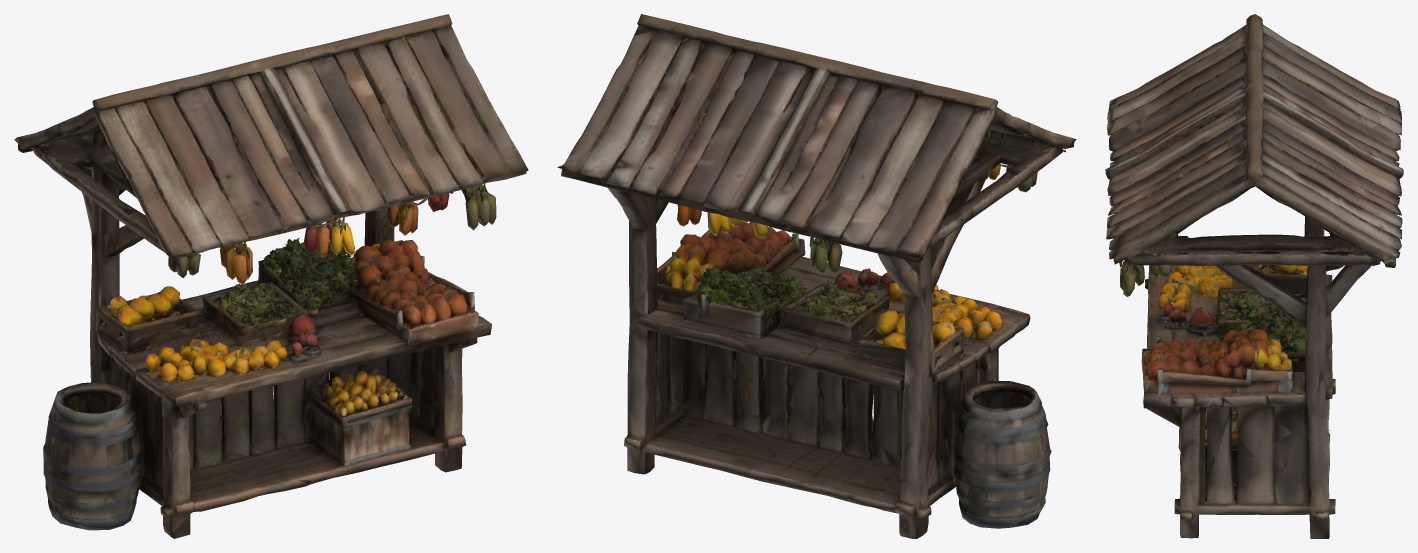
Rendered from Rustic_Market_Stall.glb.
The picture shows the model from 3 angles, left to right: view 1: azimuth 30°, elevation 25°; view 2: azimuth 150°, elevation 25°; view 3: azimuth 270°, elevation 25°; orthographic projection. The views are drawn at different scales.
Visible parts, largest first — view 1: Rustic_Market_Stall; view 2: Rustic_Market_Stall; view 3: Rustic_Market_Stall.
Part boxes in pixels (left/top/right/bottom): Rustic_Market_Stall: left=14, top=14, right=528, bottom=538; Rustic_Market_Stall: left=557, top=14, right=1076, bottom=538; Rustic_Market_Stall: left=1105, top=14, right=1403, bottom=538.
Bounding box in the file's own units: 1.92 × 1.9 × 1.35.
Materials: 1 (1 with a texture image).
